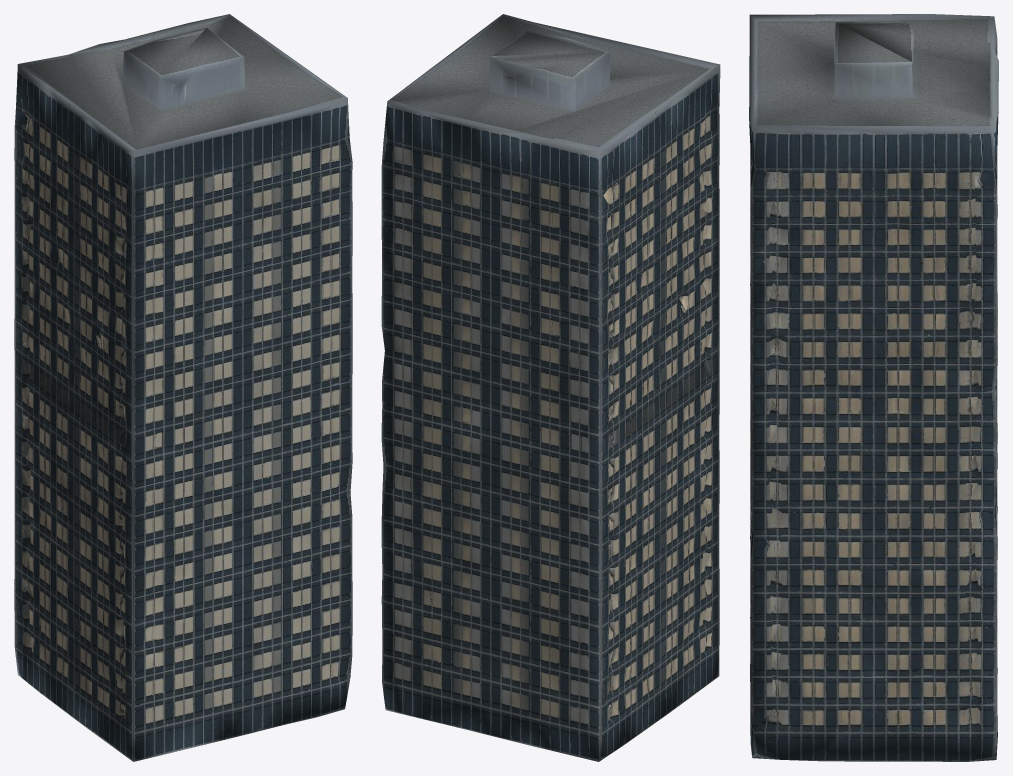
File: skyscraper.glb
3 renders of one model, left to right at view 1: azimuth 30°, elevation 25°; view 2: azimuth 150°, elevation 25°; view 3: azimuth 270°, elevation 25°, orthographic. The views are drawn at different scales.
Parts seen in each view (by area): view 1: Mesh_0.001; view 2: Mesh_0.001; view 3: Mesh_0.001.
Part boxes in pixels (x1,y1,x2,y2): Mesh_0.001: (14,14,352,761); Mesh_0.001: (381,14,720,761); Mesh_0.001: (749,14,998,761).
Bounding box in the file's own units: 3.6 × 10 × 3.4.
Materials: 1 (1 with a texture image).
